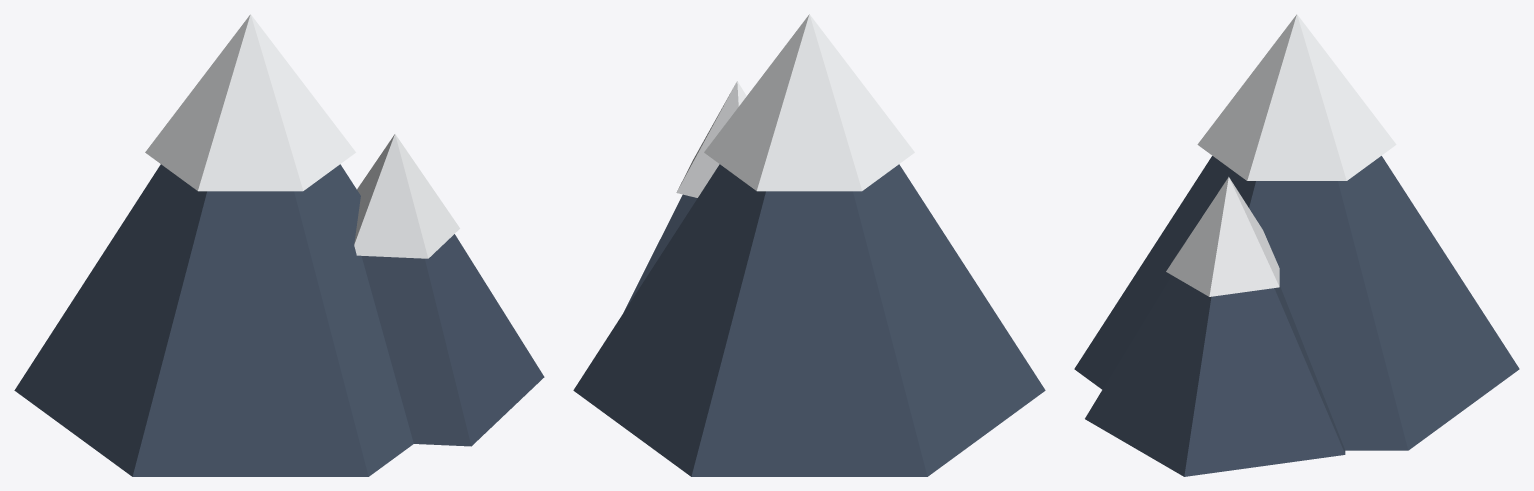
File: mountain.glb
3 renders of one model, left to right at view 1: azimuth 30°, elevation 25°; view 2: azimuth 150°, elevation 25°; view 3: azimuth 270°, elevation 25°, orthographic. The views are drawn at different scales.
Visible parts, largest first — view 1: MountainRock, MountainSnow; view 2: MountainRock, MountainSnow; view 3: MountainRock, MountainSnow.
Boxes of the visible parts, <box> form: MountainRock: <box>14,164,544,476</box>; MountainSnow: <box>145,14,459,258</box>; MountainRock: <box>573,164,1045,476</box>; MountainSnow: <box>676,14,914,197</box>; MountainRock: <box>1074,156,1519,476</box>; MountainSnow: <box>1166,14,1396,296</box>.
Bounding box in the file's own units: 1.71 × 1.5 × 1.7.
